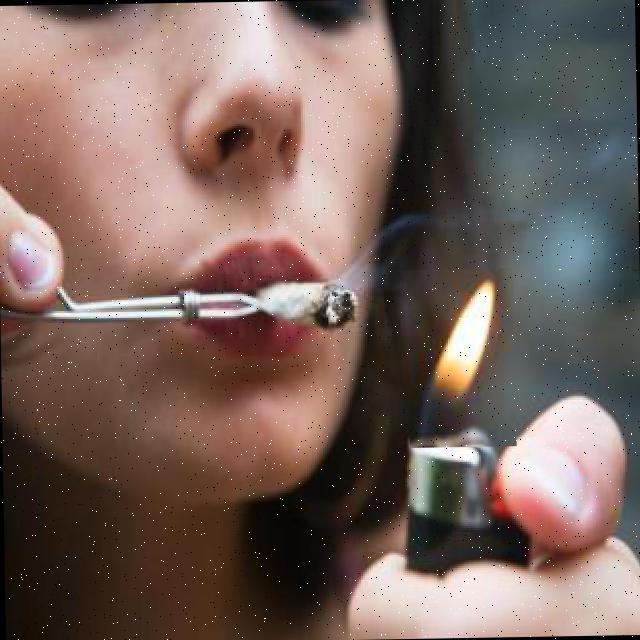fire: (406, 268, 516, 448)
